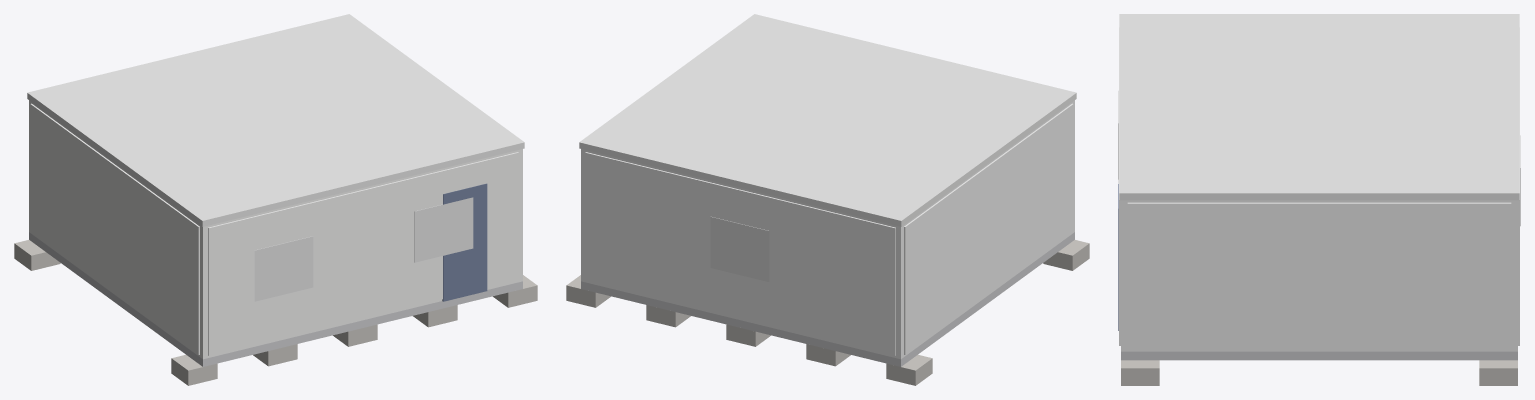
File: Studio-20-Base-AngelWhite-LOD0.glb
3 views of the same model, side by side, from view 1: azimuth 30°, elevation 25°; view 2: azimuth 150°, elevation 25°; view 3: azimuth 270°, elevation 25° (orthographic). The views are drawn at different scales.
Visible parts, largest first — view 1: RoofMain, ExteriorPanelsStandard, WindowsStandard, FoundationBlocks, BaseFrame, ExteriorShell, EntryDoor; view 2: ExteriorPanelsStandard, RoofMain, FoundationBlocks, BaseFrame, ExteriorShell, WindowsStandard; view 3: RoofMain, ExteriorPanelsStandard, ExteriorShell, BaseFrame, FoundationBlocks.
Boxes of the visible parts, box(x1,y1,x2,y2) form: RoofMain: box(27, 14, 524, 226); ExteriorPanelsStandard: box(30, 103, 518, 355); WindowsStandard: box(254, 197, 473, 301); FoundationBlocks: box(14, 240, 537, 385); BaseFrame: box(29, 232, 522, 366); ExteriorShell: box(29, 100, 522, 359); EntryDoor: box(442, 183, 487, 301); ExteriorPanelsStandard: box(585, 103, 1073, 355); RoofMain: box(579, 14, 1076, 226); FoundationBlocks: box(566, 240, 1089, 385); BaseFrame: box(581, 232, 1074, 366); ExteriorShell: box(581, 100, 1074, 359); WindowsStandard: box(710, 216, 769, 281); RoofMain: box(1119, 14, 1519, 200); ExteriorPanelsStandard: box(1119, 27, 1519, 349); ExteriorShell: box(1121, 200, 1517, 351); BaseFrame: box(1121, 351, 1517, 360); FoundationBlocks: box(1121, 360, 1517, 385).
Bounding box in the file's own units: 7.14 × 3.17 × 6.24.
